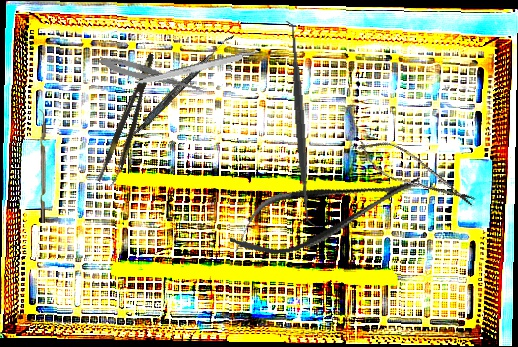Chopper: (35, 108, 47, 224)
Micro Scissor: (221, 155, 431, 269), (349, 129, 484, 217), (96, 52, 210, 98)
Scalpel Handle: (133, 48, 261, 89)
Spatula Surgical: (119, 29, 235, 152), (282, 19, 319, 229)
Tissue Forceps: (95, 52, 167, 188)
